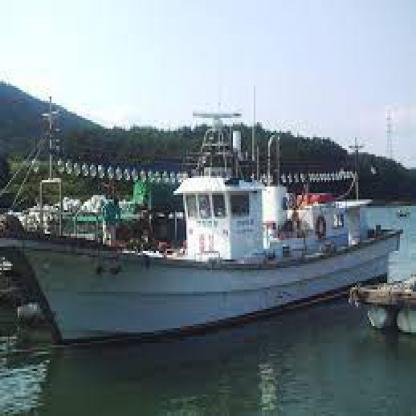fish-b: (0, 94, 405, 354)
